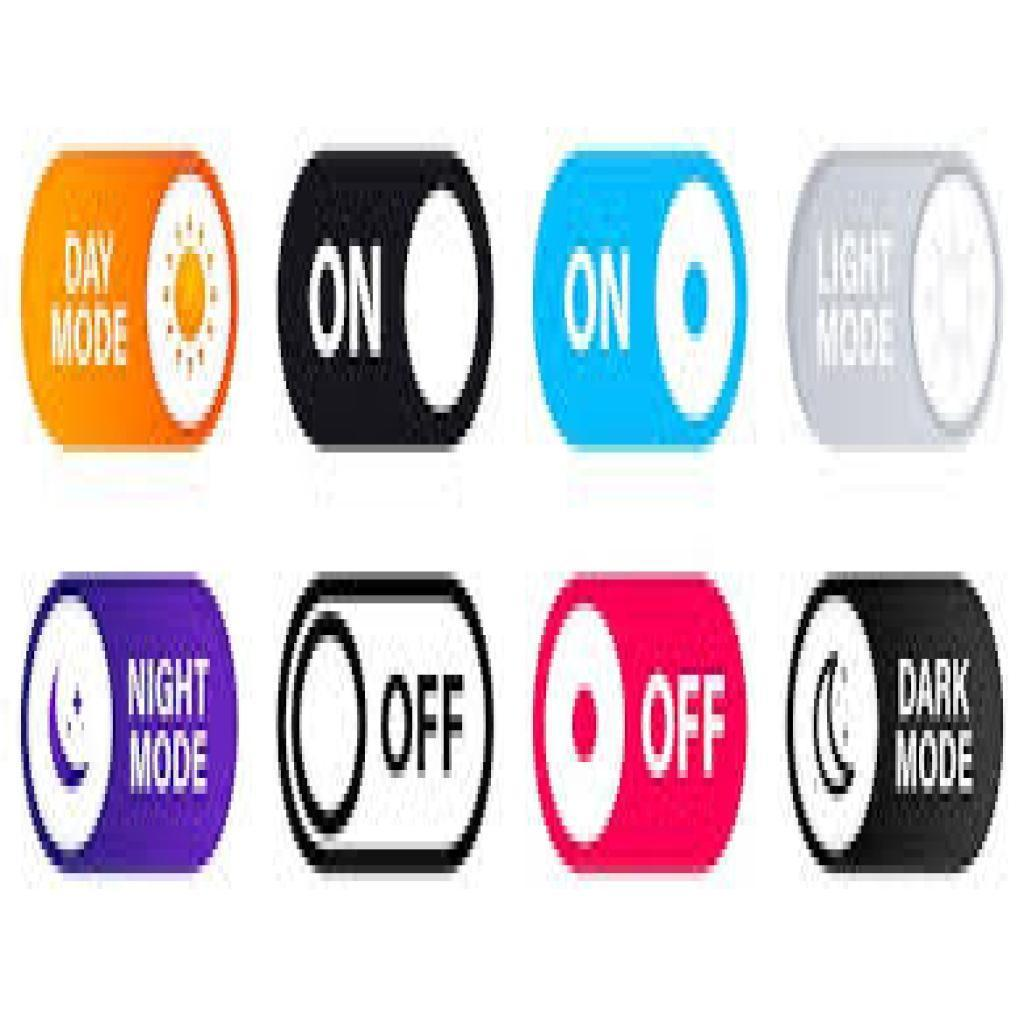switch: (531, 151, 749, 456), (278, 153, 496, 456), (25, 151, 242, 454), (788, 573, 1006, 874), (21, 573, 240, 872), (276, 572, 493, 873), (533, 574, 747, 876), (788, 154, 1002, 452)
